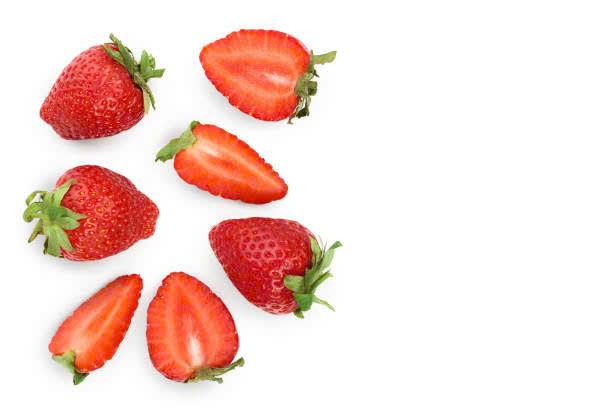strawberry: (30, 18, 161, 139), (176, 26, 341, 112), (202, 217, 340, 316), (145, 257, 237, 394), (16, 175, 164, 260), (33, 275, 143, 381), (171, 124, 296, 217)
